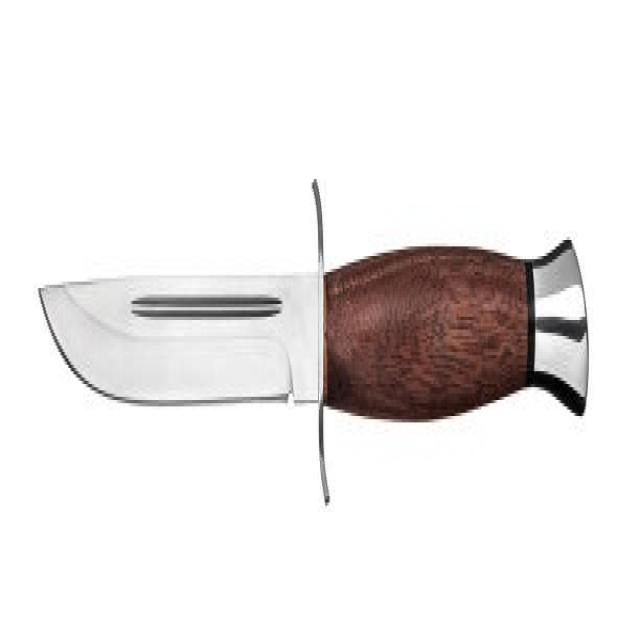knife: (38, 169, 591, 534)
